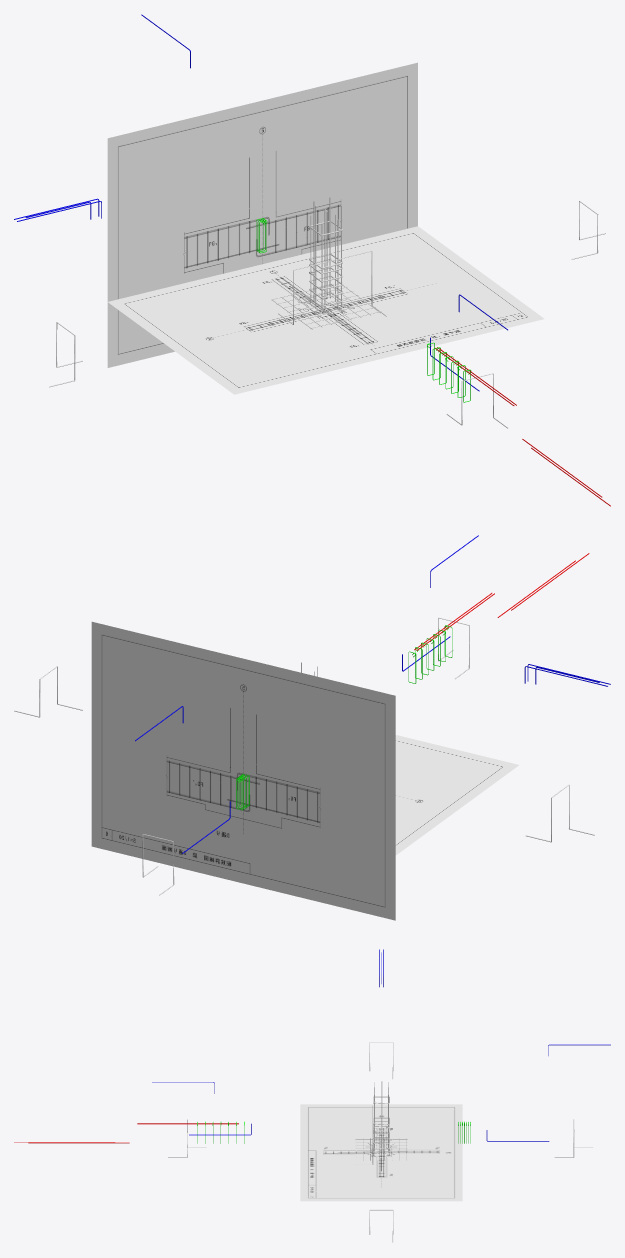
The picture shows the model from 3 angles, top to bottom: view 1: azimuth 30°, elevation 25°; view 2: azimuth 150°, elevation 25°; view 3: azimuth 270°, elevation 25°; orthographic projection. The views are drawn at different scales.
Visible parts, largest first — view 1: 平面.001, 平面, 1360.012; view 2: 平面.001, 平面; view 3: 平面, 1360.012.
Boxes of the visible parts, box(x1,y1,x2,y2) form: 平面.001: box(107, 62, 417, 367); 平面: box(108, 226, 544, 394); 1360.012: box(271, 282, 381, 329); 平面.001: box(91, 621, 395, 920); 平面: box(395, 735, 518, 855); 平面: box(300, 1104, 462, 1201); 1360.012: box(355, 1138, 407, 1160).
Bounding box in the file's own units: 11457 × 4252 × 15445.
9 materials, 2 textured.
